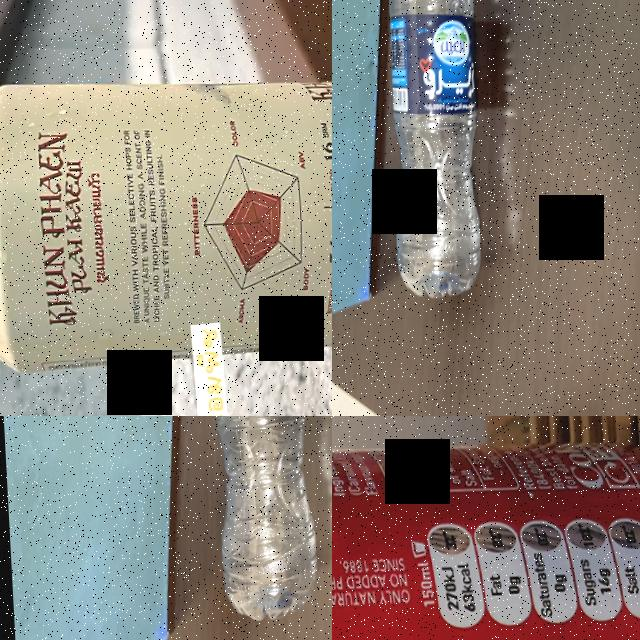bottle: (369, 0, 498, 317), (191, 416, 332, 635)
can: (0, 55, 332, 380), (332, 420, 640, 640)
